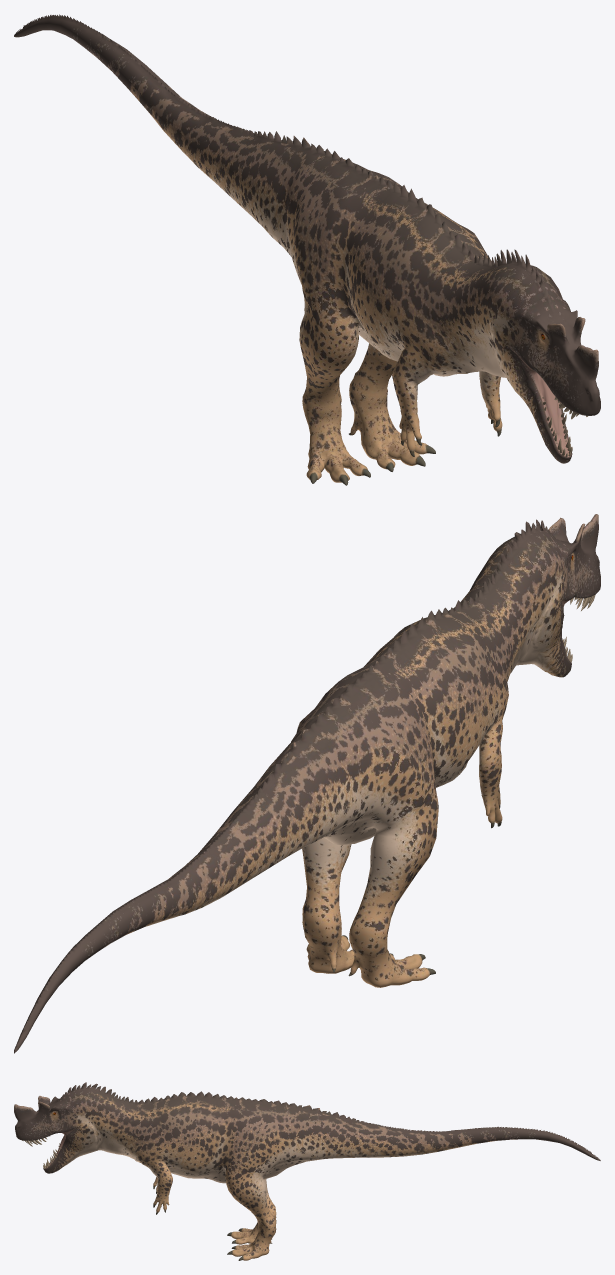
Rendered from Ceratosaurio.glb.
The picture shows the model from 3 angles, top to bottom: view 1: azimuth 30°, elevation 25°; view 2: azimuth 150°, elevation 25°; view 3: azimuth 270°, elevation 25°; orthographic projection. The views are drawn at different scales.
Visible parts, largest first — view 1: DW_Ceratosaurio_Adulto_Mayor_mesh; view 2: DW_Ceratosaurio_Adulto_Mayor_mesh; view 3: DW_Ceratosaurio_Adulto_Mayor_mesh.
Part boxes in pixels (x1,y1,x2,y2): DW_Ceratosaurio_Adulto_Mayor_mesh: [14, 14, 600, 485]; DW_Ceratosaurio_Adulto_Mayor_mesh: [14, 514, 600, 1053]; DW_Ceratosaurio_Adulto_Mayor_mesh: [14, 1082, 600, 1260].
Bounding box in the file's own units: 0.1226 × 0.31 × 1.
Materials: 2 (2 with a texture image).
